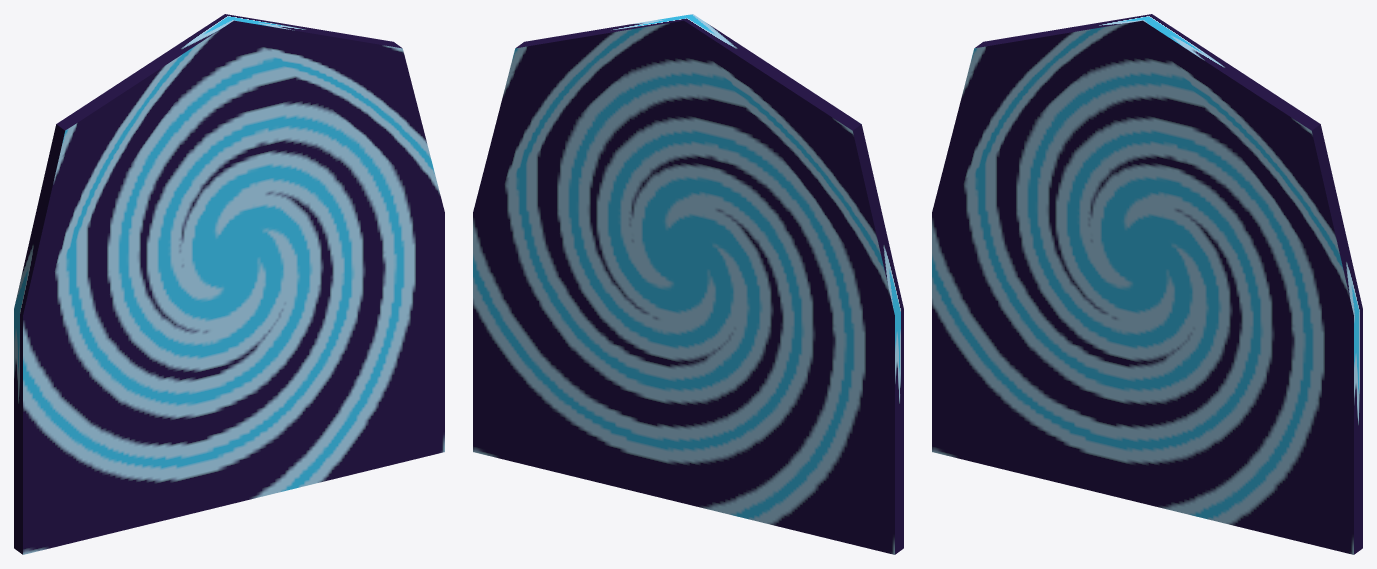
The model's file is portal_plane.glb.
3 renders of one model, left to right at view 1: azimuth 30°, elevation 25°; view 2: azimuth 150°, elevation 25°; view 3: azimuth 330°, elevation 25°, orthographic.
Parts seen in each view (by area): view 1: Cube; view 2: Cube; view 3: Cube.
Boxes of the visible parts, x1,y1,x2,y2 form: Cube: [14, 14, 444, 554]; Cube: [473, 14, 903, 554]; Cube: [932, 14, 1362, 554].
Size of the model in its own units: 0.8 by 0.875 by 0.0297.
1 material, 1 textured.
